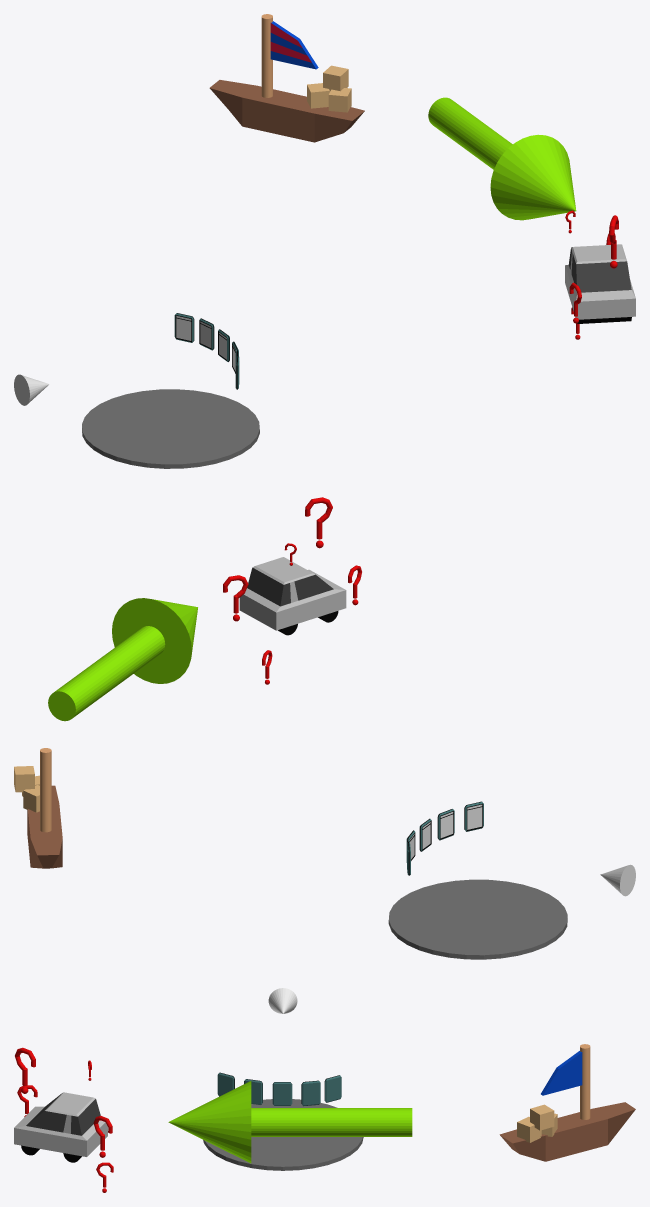
Rendered from Gatex2.glb.
3 views of the same model, one above another, from view 1: azimuth 30°, elevation 25°; view 2: azimuth 150°, elevation 25°; view 3: azimuth 270°, elevation 25° (orthographic). The views are drawn at different scales.
Visible parts, largest first — view 1: Cylinder, Barco, Flecha, Auto, Signos, Usuario; view 2: Cylinder, Flecha, Auto, Barco, Signos, Usuario; view 3: Flecha, Barco, Auto, Cylinder, Signos, Usuario, Tarjeta1, Tarjeta2, Tarjeta5, Tarjeta4, Tarjeta3.
Boxes of the visible parts, x1=… form: Cylinder: x1=82, y1=389, x2=259, y2=468; Barco: x1=209, y1=14, x2=364, y2=142; Flecha: x1=428, y1=97, x2=576, y2=220; Auto: x1=565, y1=244, x2=635, y2=323; Signos: x1=565, y1=210, x2=618, y2=339; Usuario: x1=14, y1=374, x2=49, y2=405; Cylinder: x1=388, y1=879, x2=567, y2=959; Flecha: x1=48, y1=598, x2=197, y2=721; Auto: x1=239, y1=557, x2=346, y2=635; Barco: x1=14, y1=748, x2=62, y2=868; Signos: x1=223, y1=497, x2=361, y2=684; Usuario: x1=600, y1=864, x2=635, y2=896; Flecha: x1=168, y1=1081, x2=412, y2=1163; Barco: x1=499, y1=1044, x2=635, y2=1161; Auto: x1=14, y1=1092, x2=107, y2=1162; Cylinder: x1=203, y1=1099, x2=363, y2=1170; Signos: x1=15, y1=1047, x2=113, y2=1192; Usuario: x1=268, y1=988, x2=297, y2=1013; Tarjeta1: x1=272, y1=1082, x2=292, y2=1105; Tarjeta2: x1=301, y1=1080, x2=320, y2=1106; Tarjeta5: x1=324, y1=1075, x2=341, y2=1102; Tarjeta4: x1=217, y1=1072, x2=234, y2=1096; Tarjeta3: x1=244, y1=1079, x2=262, y2=1104.
Size of the model in its own units: 38.38 by 16.84 by 43.
